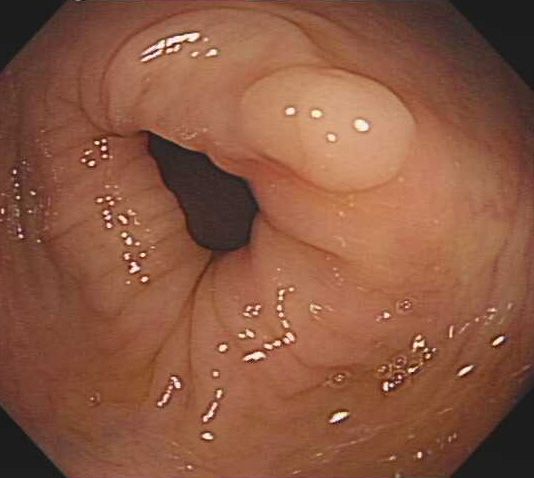others: (231, 64, 420, 193)
